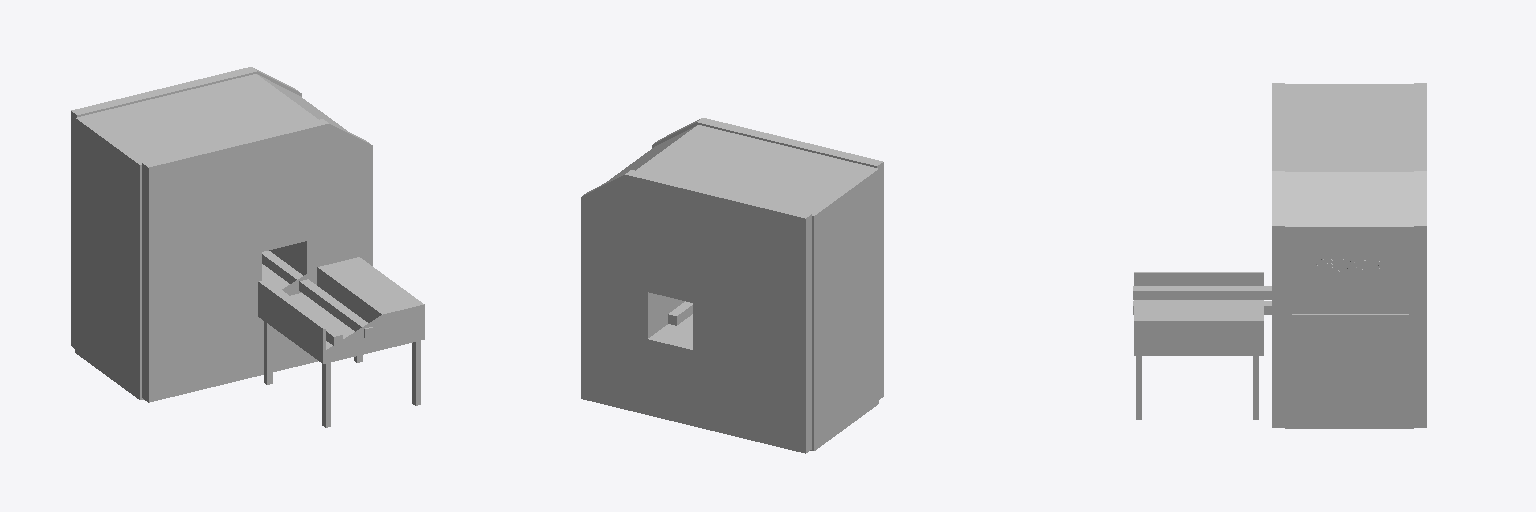
File: 检测AOR_TITLE.obj
3 renders of one model, left to right at view 1: azimuth 30°, elevation 25°; view 2: azimuth 150°, elevation 25°; view 3: azimuth 270°, elevation 25°, orthographic.
Visible parts, largest first — view 1: ??_2, ??_1, ???_4_2, ??_2_2, ???_1, ???_3_2, ???_3_3, ???_2, ???_4, ???_3, ???_5; view 2: ??_2_2, ??_1, ??_2, ???_3_3, ???_1_2; view 3: ??_1, ???_4_2, ??_2, ??_2_2, ???, ???_2, ???_3_2.
Boxes of the visible parts, box(x1,y1,x2,y2) form: ??_2: box(142, 119, 372, 402); ??_1: box(75, 74, 346, 399); ???_4_2: box(258, 257, 424, 363); ??_2_2: box(71, 67, 301, 348); ???_1: box(262, 251, 373, 338); ???_3_2: box(291, 267, 381, 349); ???_3_3: box(262, 243, 299, 287); ???_2: box(262, 276, 342, 345); ???_4: box(322, 363, 330, 427); ???_3: box(412, 341, 420, 405); ???_5: box(264, 321, 272, 384); ??_2_2: box(581, 170, 811, 453); ??_1: box(607, 125, 878, 450); ??_2: box(652, 118, 883, 399); ???_3_3: box(654, 294, 692, 343); ???_1_2: box(648, 292, 692, 349); ??_1: box(1285, 84, 1413, 428); ???_4_2: box(1134, 272, 1263, 355); ??_2: box(1272, 83, 1284, 427); ??_2_2: box(1414, 83, 1426, 427); ???: box(1292, 314, 1408, 349); ???_2: box(1133, 286, 1271, 299); ???_3_2: box(1134, 273, 1263, 285).
Size of the model in its own units: 202 by 202 by 227.